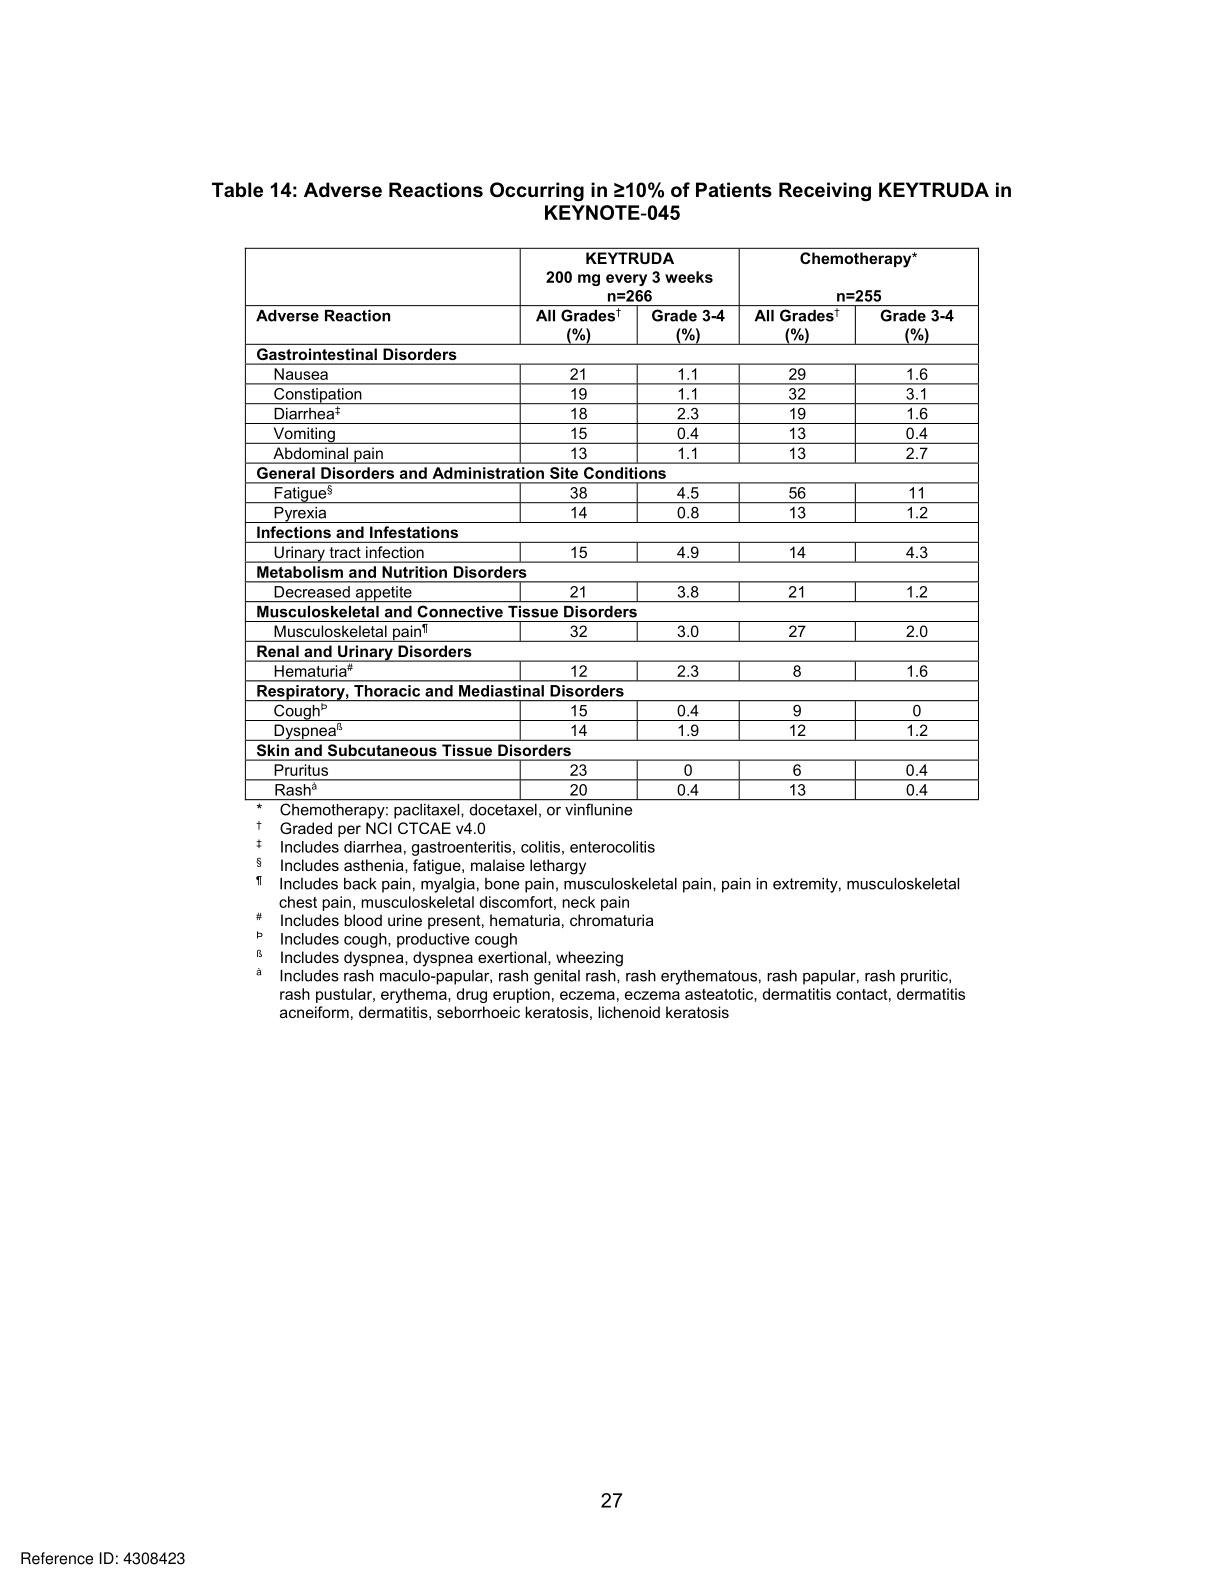merged_cells: (242, 246, 981, 802)
